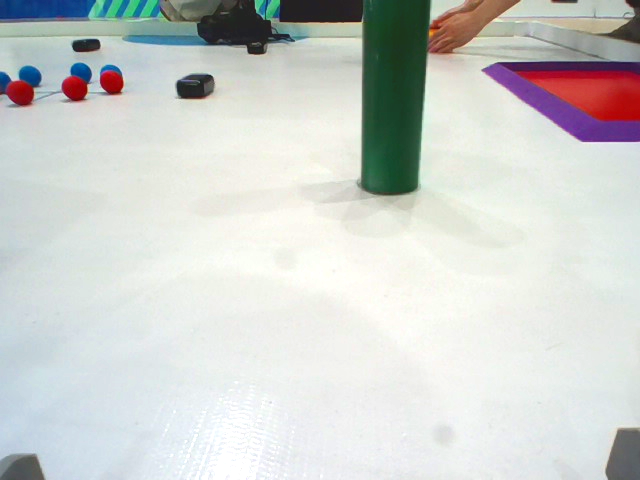black: (175, 72, 213, 99), (68, 35, 99, 51)
blue: (18, 64, 43, 85), (98, 64, 121, 86), (71, 62, 90, 79)
kuang: (484, 54, 640, 146)
red: (62, 78, 90, 101), (5, 83, 32, 106), (101, 68, 123, 95)
zhuzi: (354, 1, 435, 197)
